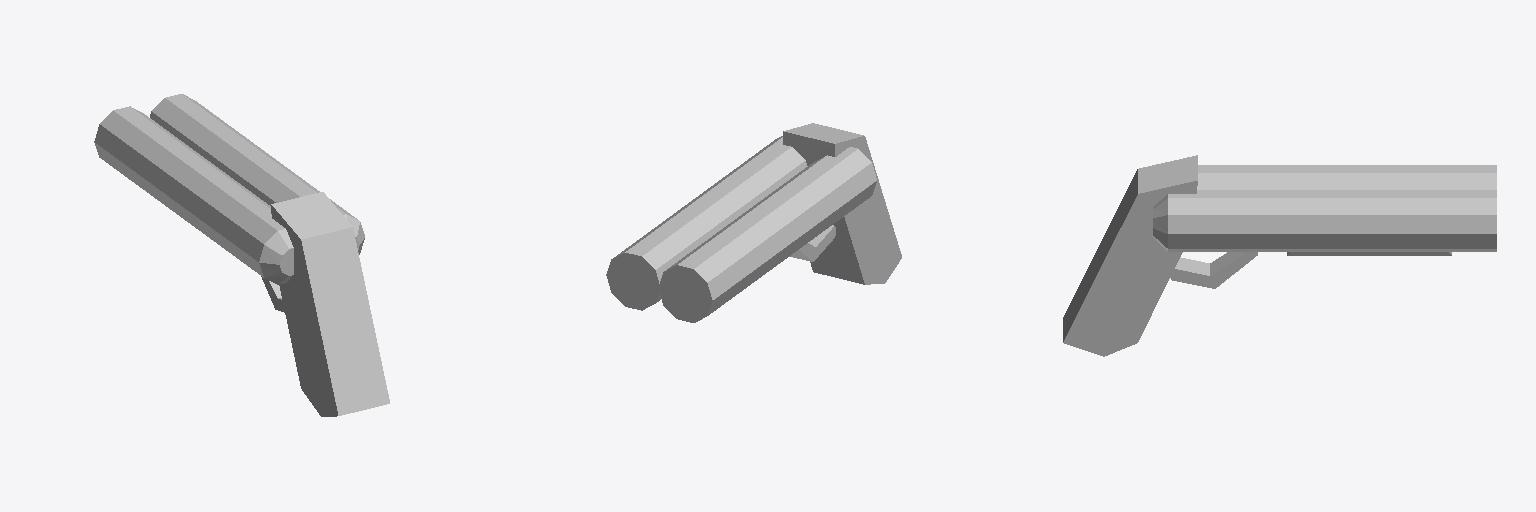
The model's file is shotgun.obj.
3 views of the same model, side by side, from view 1: azimuth 30°, elevation 25°; view 2: azimuth 150°, elevation 25°; view 3: azimuth 270°, elevation 25° (orthographic).
Visible parts, largest first — view 1: clover_handle, hole1, hole2; view 2: hole1, hole2, clover_handle, trigger_hole; view 3: hole2, clover_handle, hole1, trigger_hole, pump_charge.
Part boxes in pixels (x1,y1,x2,y2): clover_handle: (271,192,389,416); hole1: (94,106,293,284); hole2: (150,94,364,254); hole1: (658,147,876,322); hole2: (606,136,807,310); clover_handle: (783,123,901,284); trigger_hole: (789,225,835,261); hole2: (1153,190,1496,251); clover_handle: (1063,155,1197,356); hole1: (1197,165,1496,189); trigger_hole: (1170,252,1257,288); pump_charge: (1287,252,1451,255).
Size of the model in its own units: 0.5129 by 0.8125 by 1.81.